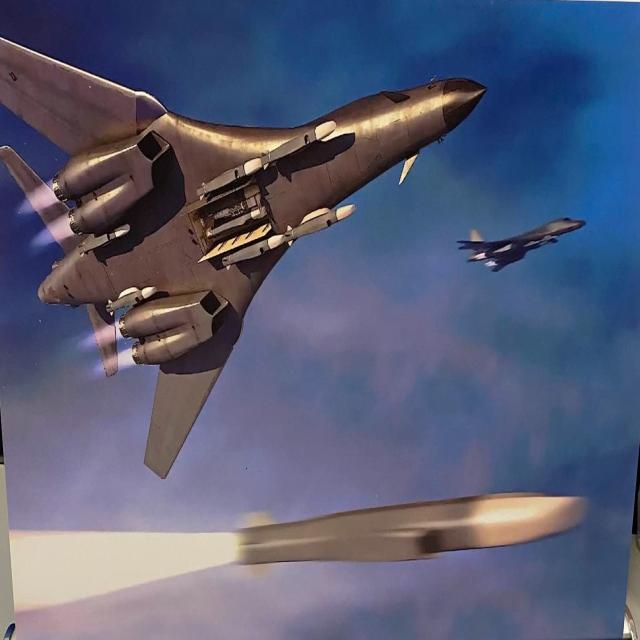B1: (0, 26, 496, 483), (224, 450, 633, 624), (446, 169, 594, 289)
